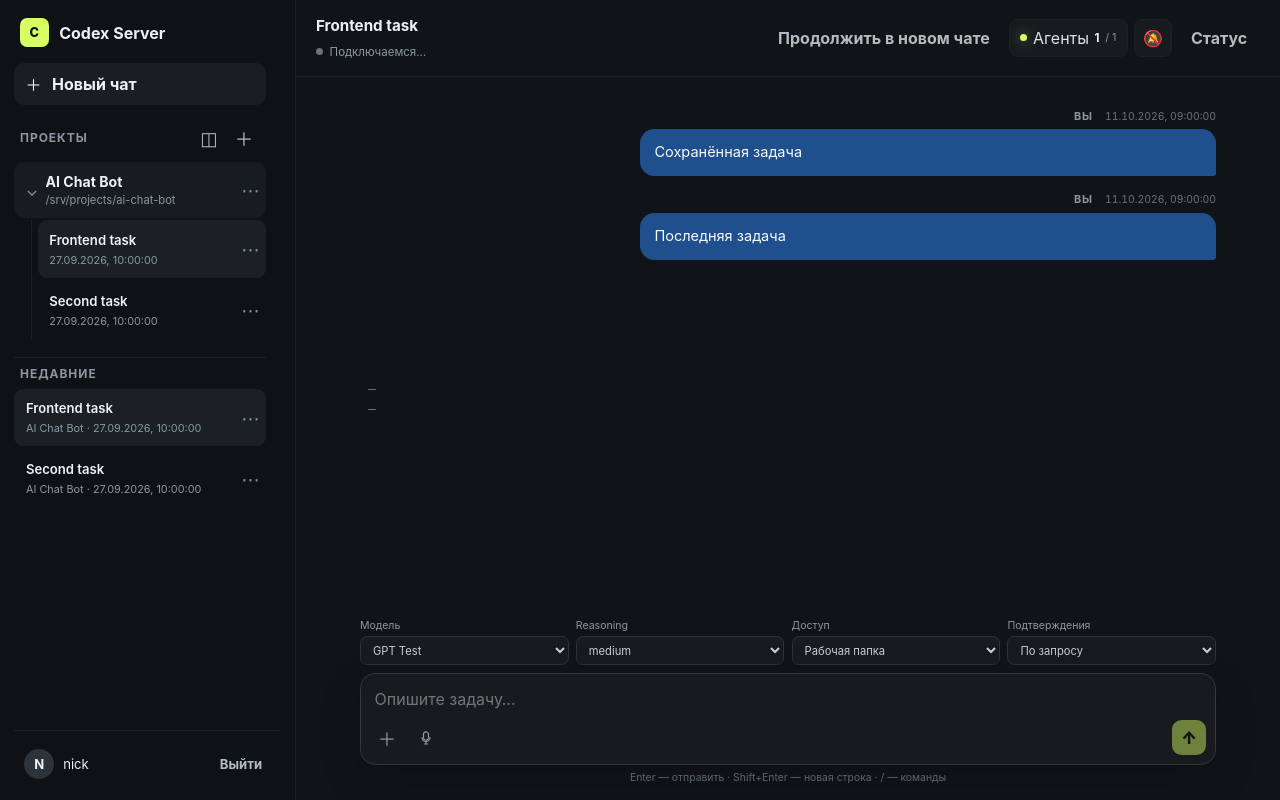
Test: App › rechecks the current browser endpoint when switching chats
Expected: the button named "Включить уведомления для этого чата" is shown, [1134,19,1172,57]
Click the button with aria-label "Открыть чат проекта Second task" at (136, 310), box [38,281,235,339]
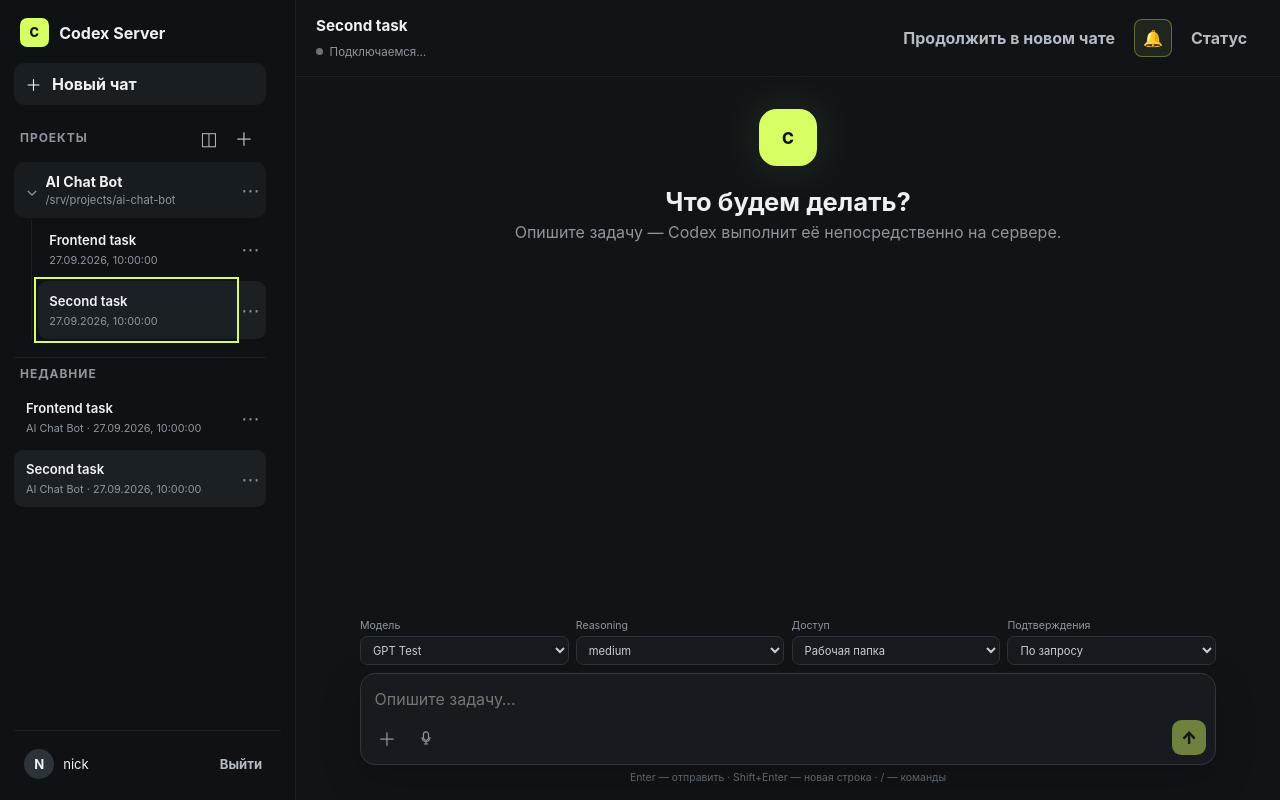
Now the button named "Отключить уведомления для этого чата" is shown, box [1134,19,1172,57]
